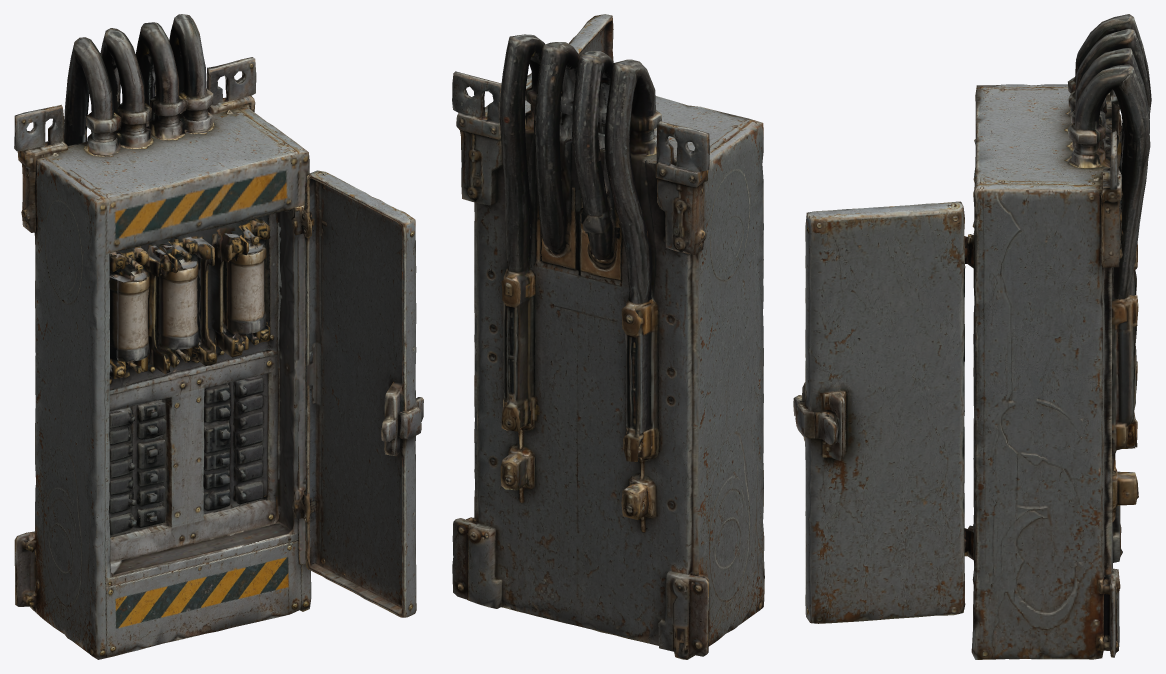
The model's file is BKI_Switchboard.fbx.
The picture shows the model from 3 angles, left to right: view 1: azimuth 30°, elevation 25°; view 2: azimuth 150°, elevation 25°; view 3: azimuth 270°, elevation 25°; orthographic projection. The views are drawn at different scales.
Visible parts, largest first — view 1: texture_mapping; view 2: texture_mapping; view 3: texture_mapping.
Part boxes in pixels (<box>): texture_mapping: <box>14,14,423,659</box>; texture_mapping: <box>452,14,764,659</box>; texture_mapping: <box>793,14,1151,659</box>.
Bounding box in the file's own units: 0.5145 × 0.5699 × 0.9984.
Materials: 1 (1 with a texture image).
